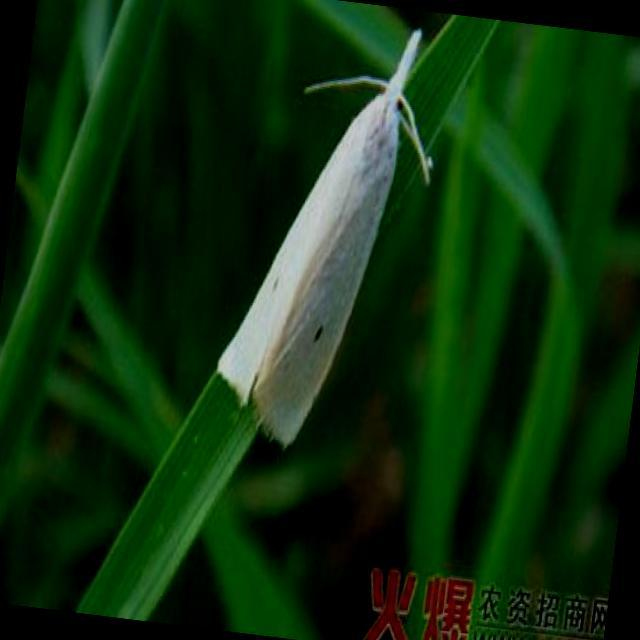stem borer: (218, 30, 431, 446)
